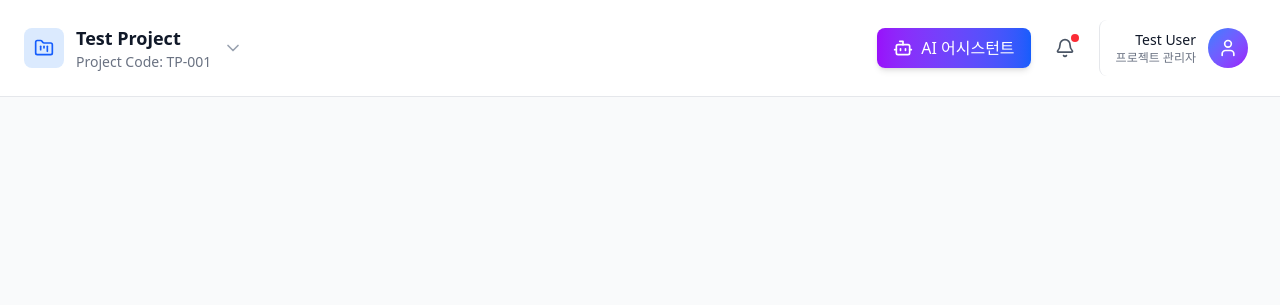
Scenario: Header › user menu › opens user menu when user button is clicked
Step 1. Click the button "Test User 프로젝트 관리자" → [1177, 48], box x1=1099 y1=20 x2=1256 y2=76
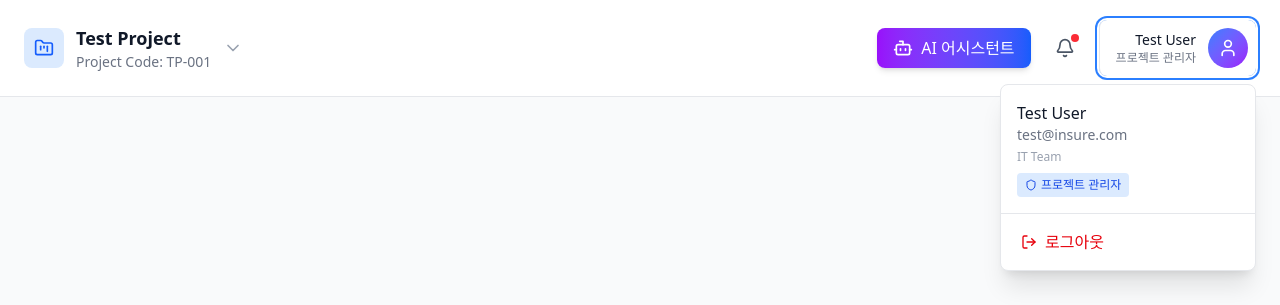
expect the text "test@insure.com" is shown: met, box x1=1017 y1=125 x2=1127 y2=144
expect the text "IT Team" is shown: met, box x1=1017 y1=148 x2=1061 y2=165
